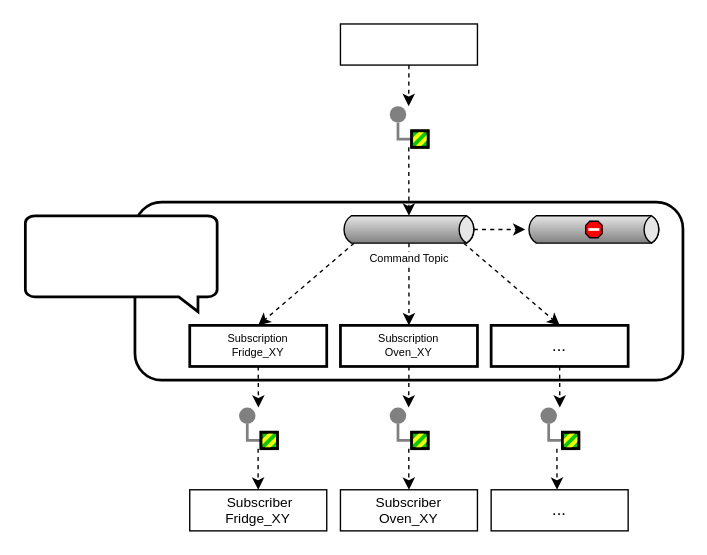
Image size: 707x555. Some labels were removed from this diagram. The shapes that lost their labels are listed below. From the top down, each one's box as (x1, y1, x2, y2) in pixels, then its label:
(339, 23, 477, 65): Control Panel
(524, 214, 662, 243): Dead Letter
(23, 214, 218, 312): Filter: "label = Fridge_XY"
